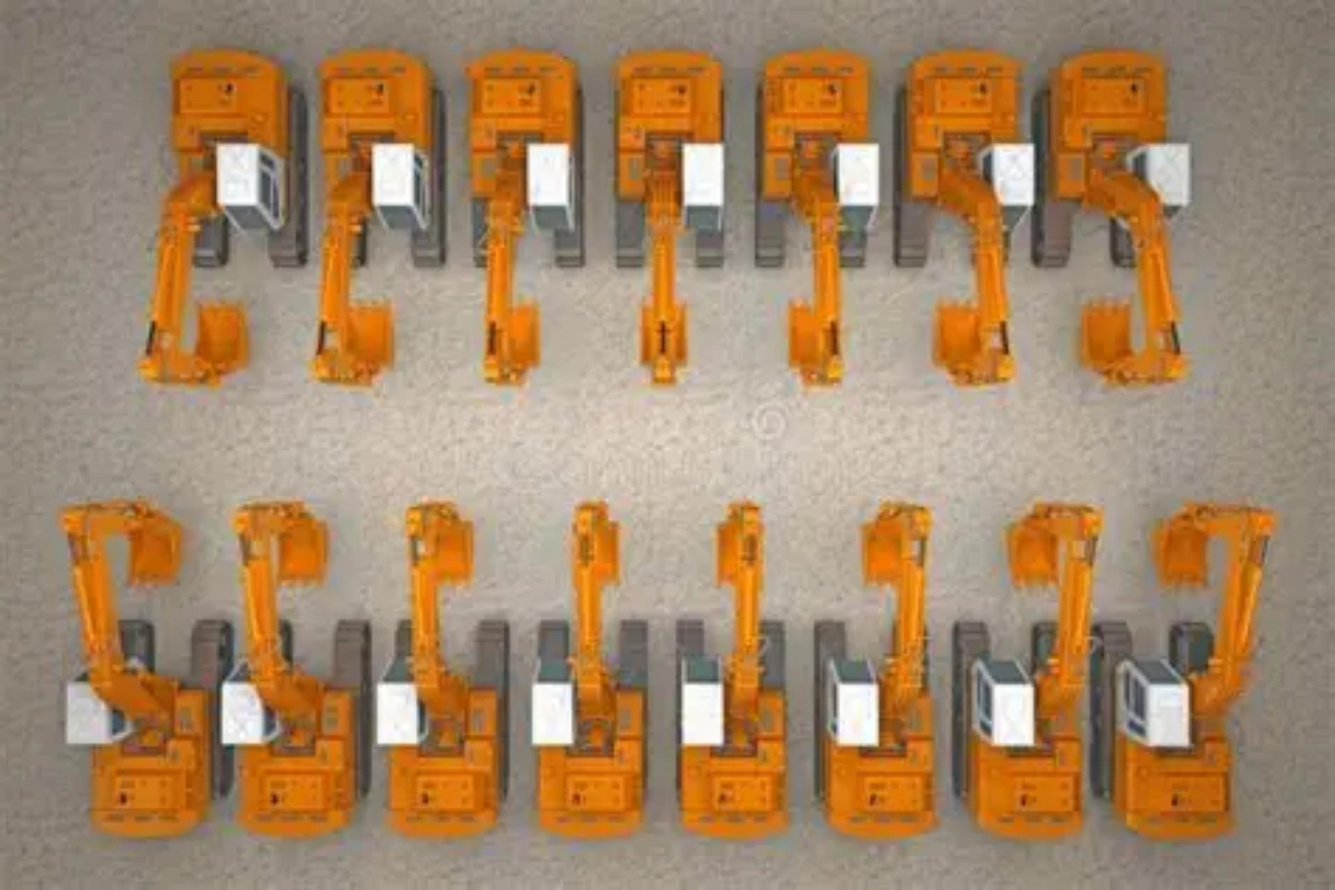excavator: (1113, 501, 1274, 834), (59, 499, 206, 834), (138, 48, 285, 380), (961, 501, 1102, 837), (310, 48, 440, 383), (1054, 51, 1183, 380), (231, 501, 355, 834), (820, 501, 933, 837), (465, 48, 575, 383), (907, 48, 1017, 383), (535, 501, 642, 837), (679, 501, 786, 837), (761, 48, 868, 383), (389, 501, 496, 834), (617, 51, 721, 380)
